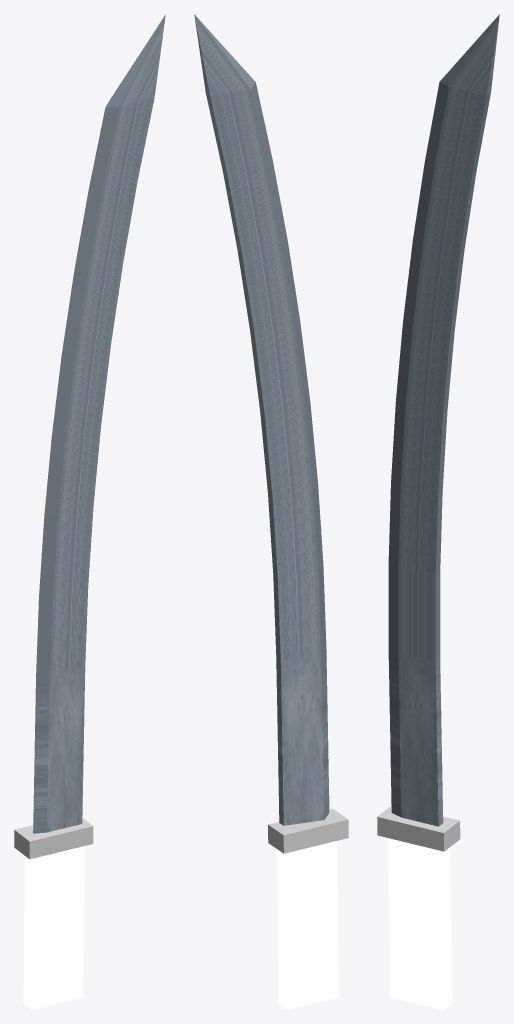
The model's file is saber1.gltf.
3 renders of one model, left to right at view 1: azimuth 30°, elevation 25°; view 2: azimuth 210°, elevation 25°; view 3: azimuth 330°, elevation 25°, orthographic. The views are drawn at different scales.
Parts seen in each view (by area): view 1: Plane, Handle, Blade; view 2: Plane, Handle, Blade; view 3: Plane, Handle, Blade.
Boxes of the visible parts, box(x1,y1,x2,y2) form: Plane: box(33, 15, 165, 833); Handle: box(23, 846, 85, 1009); Blade: box(14, 818, 93, 859); Plane: box(194, 14, 329, 825); Handle: box(276, 841, 339, 1009); Blade: box(268, 808, 348, 853); Plane: box(388, 14, 499, 826); Handle: box(387, 838, 452, 1009); Blade: box(377, 806, 460, 851).
Size of the model in its own units: 1.65 by 12.18 by 0.585.
Materials: 2 (1 with a texture image).
